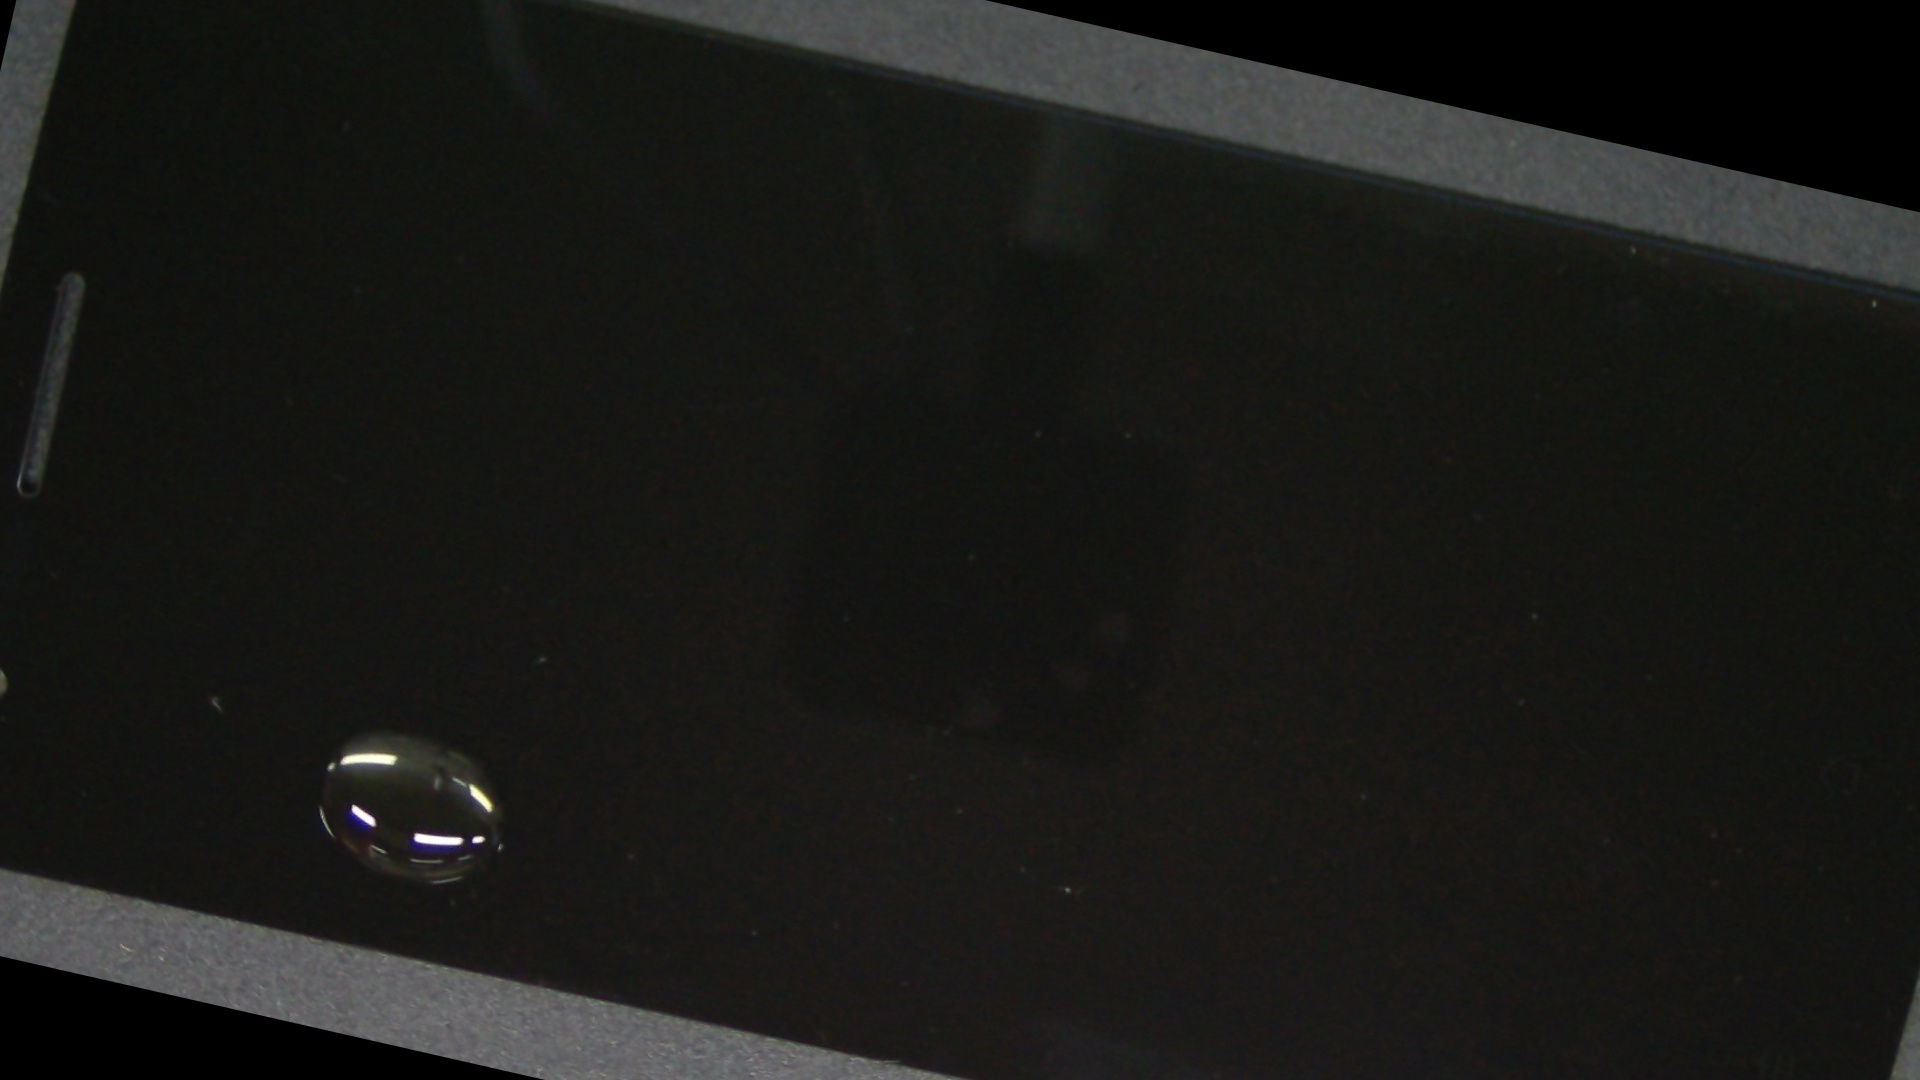oil: (71, 261, 753, 1080)
